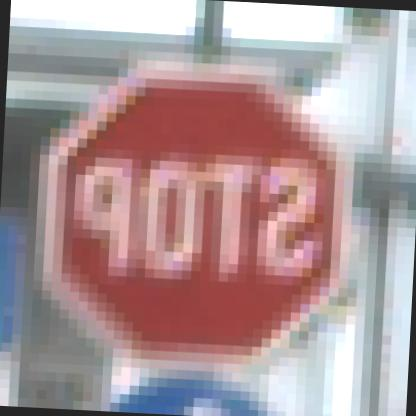stop: (34, 44, 362, 383)
